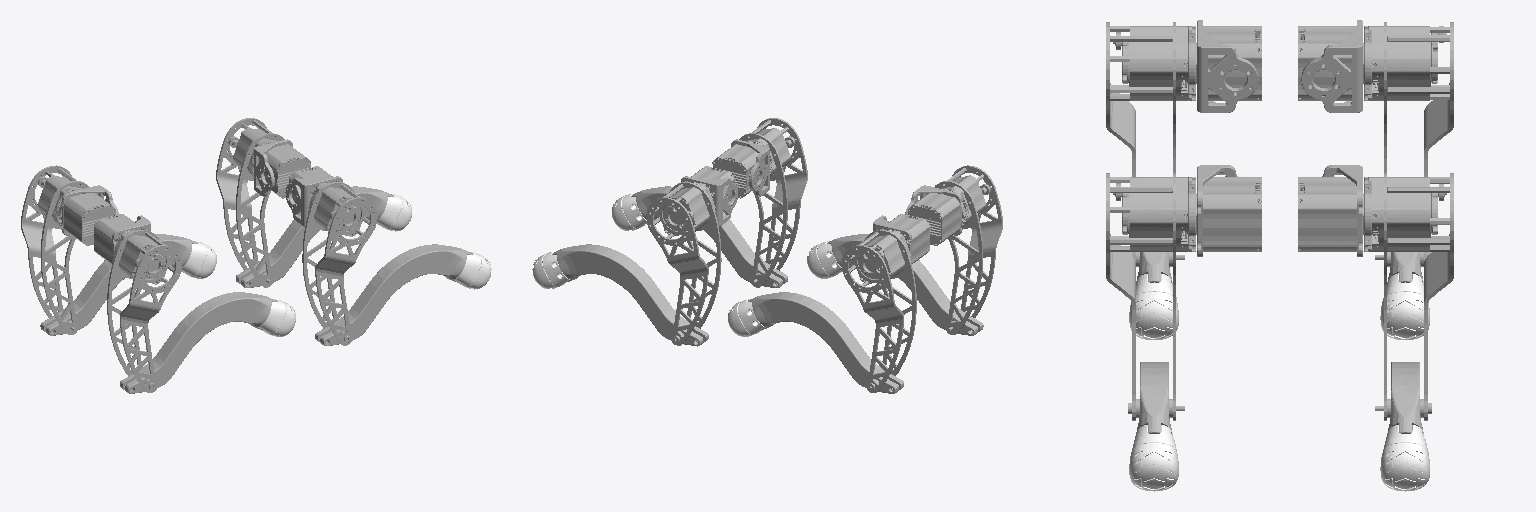
The robot description file, URDF, robot "HTDW_5036":
<?xml version="1.0" encoding="utf-8"?>
 <!-- This URDF was automatically created by SolidWorks to URDF Exporter! Originally created by Stephen Brawner (brawner@gmail.com) 
      Commit Version: 1.6.0-4-g7f85cfe  Build Version: 1.6.7995.38578
      For more information, please see http://wiki.ros.org/sw_urdf_exporter -->
 <robot name="HTDW_5036">
  <mujoco>
    <compiler meshdir="../meshes/" balanceinertia="true" discardvisual="false" />
  </mujoco>

   <link name="base_link">
     <inertial>
       <origin xyz="-0.003236 0.000885 -0.001813" rpy="0 0 0" />
       <mass value="2.659586" />
       <inertia ixx="0.003792" ixy="0.00013" ixz="0.000175" iyy="0.014468" iyz="-5e-05" izz="0.016548" />
     </inertial>
     <visual>
       <origin xyz="0 0 0" rpy="0 0 0" />
       <geometry>
         <mesh filename="../meshes/base_link.STL" />
       </geometry>
       <material name="">
         <color rgba="0.752941176470588 0.752941176470588 0.752941176470588 1" />
       </material>
     </visual>
     <collision>
       <origin xyz="0 0 0" rpy="0 0 0" />
       <geometry>
         <mesh filename="../meshes/base_link.STL" />
       </geometry>
     </collision>
   </link>
   <link name="FL_hip">
     <inertial>
       <origin xyz="-0.002051 0.009463 -0.000144" rpy="0 0 0" />
       <mass value="0.384243" />
       <inertia ixx="0.000101" ixy="2e-06" ixz="1e-06" iyy="0.000104" iyz="0.0" izz="0.00011" />
     </inertial>
     <visual>
       <origin xyz="0 0 0" rpy="0 0 0" />
       <geometry>
         <mesh filename="../meshes/FL_hip.STL" />
       </geometry>
       <material name="">
         <color rgba="0.752941176470588 0.752941176470588 0.752941176470588 1" />
       </material>
     </visual>
     <collision>
       <origin xyz="0 0 0" rpy="0 0 0" />
       <geometry>
         <mesh filename="../meshes/FL_hip.STL" />
       </geometry>
     </collision>
   </link>
   <joint name="FL_hip_joint" type="revolute">
     <origin xyz="0.14215 0.035 0" rpy="0 0 0" />
     <parent link="base_link" />
     <child link="FL_hip" />
     <axis xyz="1 0 0" />
     <limit lower="-0.53" upper="0.53" effort="21" velocity="9.5" />
   </joint>
   <link name="FL_thigh">
     <inertial>
       <origin xyz="-0.002275 0.002996 -0.013672" rpy="0 0 0" />
       <mass value="0.475" />
       <inertia ixx="0.000882" ixy="7e-06" ixz="-6.3e-05" iyy="0.000854" iyz="4e-06" izz="0.000201" />
     </inertial>
     <visual>
       <origin xyz="0 0 0" rpy="0 0 0" />
       <geometry>
         <mesh filename="../meshes/FL_thigh.STL" />
       </geometry>
       <material name="">
         <color rgba="0.752941176470588 0.752941176470588 0.752941176470588 1" />
       </material>
     </visual>
     <collision>
       <origin xyz="0 0 0" rpy="0 0 0" />
       <geometry>
         <mesh filename="../meshes/FL_thigh.STL" />
       </geometry>
     </collision>
   </link>
   <joint name="FL_thigh_joint" type="revolute">
     <origin xyz="0 0.0649 0" rpy="0 0 0" />
     <parent link="FL_hip" />
     <child link="FL_thigh" />
     <axis xyz="0 1 0" />
     <limit lower="-1.57" upper="3.49" effort="21" velocity="9.5" />
   </joint>
   <link name="FL_calf">
     <inertial>
       <origin xyz="0.019619 0.0 -0.090905" rpy="0 0 0" />
       <mass value="0.185104" />
       <inertia ixx="0.000731" ixy="0.0" ixz="8.1e-05" iyy="0.000773" iyz="0.0" izz="5.8e-05" />
     </inertial>
     <visual>
       <origin xyz="0 0 0" rpy="0 0 0" />
       <geometry>
         <mesh filename="../meshes/FL_calf.STL" />
       </geometry>
       <material name="">
         <color rgba="0.752941176470588 0.752941176470588 0.752941176470588 1" />
       </material>
     </visual>
     <collision>
       <origin xyz="0 0 0" rpy="0 0 0" />
       <geometry>
         <mesh filename="../meshes/FL_calf.STL" />
       </geometry>
     </collision>
   </link>
   <joint name="FL_calf_joint" type="revolute">
     <origin xyz="0 0 -0.17" rpy="0 0 0" />
     <parent link="FL_thigh" />
     <child link="FL_calf" />
     <axis xyz="0 1 0" />
     <limit lower="-2.43" upper="-1.298" effort="21" velocity="9.5" />
   </joint>
   <link name="FL_foot">
     <inertial>
       <origin xyz="0.000415 -0.000258 0.000642" rpy="0 0 0" />
       <mass value="0.051122" />
       <inertia ixx="1.1e-05" ixy="0.0" ixz="-1e-06" iyy="1.3e-05" iyz="0.0" izz="1.1e-05" />
     </inertial>
     <visual>
       <origin xyz="0 0 0" rpy="0 0 0" />
       <geometry>
         <mesh filename="../meshes/FL_foot.STL" />
       </geometry>
       <material name="">
         <color rgba="1 1 1 1" />
       </material>
     </visual>
     <collision>
       <origin xyz="0 0 0" rpy="0 0 0" />
       <geometry>
         <sphere radius="0.022" />
       </geometry>
     </collision>
   </link>
   <joint name="FL_foot" type="fixed">
     <origin xyz="-0.0144485951312854 0 -0.196399042450557" rpy="0 0 0" />
     <parent link="FL_calf" />
     <child link="FL_foot" />
     <axis xyz="0 0 0" />
   </joint>
   <link name="FR_hip">
     <inertial>
       <origin xyz="-0.002051 -0.009463 0.000144" rpy="0 0 0" />
       <mass value="0.384243" />
       <inertia ixx="0.000101" ixy="-2e-06" ixz="-1e-06" iyy="0.000104" iyz="0.0" izz="0.00011" />
     </inertial>
     <visual>
       <origin xyz="0 0 0" rpy="0 0 0" />
       <geometry>
         <mesh filename="../meshes/FR_hip.STL" />
       </geometry>
       <material name="">
         <color rgba="0.752941176470588 0.752941176470588 0.752941176470588 1" />
       </material>
     </visual>
     <collision>
       <origin xyz="0 0 0" rpy="0 0 0" />
       <geometry>
         <mesh filename="../meshes/FR_hip.STL" />
       </geometry>
     </collision>
   </link>
   <joint name="FR_hip_joint" type="revolute">
     <origin xyz="0.14215 -0.035 0" rpy="0 0 0" />
     <parent link="base_link" />
     <child link="FR_hip" />
     <axis xyz="1 0 0" />
     <limit lower="-0.53" upper="0.53" effort="21" velocity="9.5" />
   </joint>
   <link name="FR_thigh">
     <inertial>
       <origin xyz="-0.002505 -0.002996 -0.013547" rpy="0 0 0" />
       <mass value="0.475" />
       <inertia ixx="0.000885" ixy="-6e-06" ixz="-6e-05" iyy="0.000855" iyz="-3e-06" izz="0.0002" />
     </inertial>
     <visual>
       <origin xyz="0 0 0" rpy="0 0 0" />
       <geometry>
         <mesh filename="../meshes/FR_thigh.STL" />
       </geometry>
       <material name="">
         <color rgba="0.752941176470588 0.752941176470588 0.752941176470588 1" />
       </material>
     </visual>
     <collision>
       <origin xyz="0 0 0" rpy="0 0 0" />
       <geometry>
         <mesh filename="../meshes/FR_thigh.STL" />
       </geometry>
     </collision>
   </link>
   <joint name="FR_thigh_joint" type="revolute">
     <origin xyz="0 -0.0649 0" rpy="0 0 0" />
     <parent link="FR_hip" />
     <child link="FR_thigh" />
     <axis xyz="0 1 0" />
     <limit lower="-1.57" upper="3.49" effort="21" velocity="9.5" />
   </joint>
   <link name="FR_calf">
     <inertial>
       <origin xyz="0.019619 0.0 -0.090905" rpy="0 0 0" />
       <mass value="0.185104" />
       <inertia ixx="0.000731" ixy="0.0" ixz="8.1e-05" iyy="0.000773" iyz="0.0" izz="5.8e-05" />
     </inertial>
     <visual>
       <origin xyz="0 0 0" rpy="0 0 0" />
       <geometry>
         <mesh filename="../meshes/FR_calf.STL" />
       </geometry>
       <material name="">
         <color rgba="0.752941176470588 0.752941176470588 0.752941176470588 1" />
       </material>
     </visual>
     <collision>
       <origin xyz="0 0 0" rpy="0 0 0" />
       <geometry>
         <mesh filename="../meshes/FR_calf.STL" />
       </geometry>
     </collision>
   </link>
   <joint name="FR_calf_joint" type="revolute">
     <origin xyz="0 0 -0.17" rpy="0 0 0" />
     <parent link="FR_thigh" />
     <child link="FR_calf" />
     <axis xyz="0 1 0" />
     <limit lower="-2.43" upper="-1.298" effort="21" velocity="9.5" />
   </joint>
   <link name="FR_foot">
     <inertial>
       <origin xyz="0.000415 -0.000258 0.000643" rpy="0 0 0" />
       <mass value="0.051122" />
       <inertia ixx="1.1e-05" ixy="0.0" ixz="-1e-06" iyy="1.3e-05" iyz="0.0" izz="1.1e-05" />
     </inertial>
     <visual>
       <origin xyz="0 0 0" rpy="0 0 0" />
       <geometry>
         <mesh filename="../meshes/FR_foot.STL" />
       </geometry>
       <material name="">
         <color rgba="1 1 1 1" />
       </material>
     </visual>
     <collision>
       <origin xyz="0 0 0" rpy="0 0 0" />
       <geometry>
         <sphere radius="0.022" />
       </geometry>
     </collision>
   </link>
   <joint name="FR_foot" type="fixed">
     <origin xyz="-0.014449 0 -0.1964" rpy="0 0 0" />
     <parent link="FR_calf" />
     <child link="FR_foot" />
     <axis xyz="0 0 0" />
   </joint>
   <link name="RL_hip">
     <inertial>
       <origin xyz="0.002051 0.009463 0.000144" rpy="0 0 0" />
       <mass value="0.384243" />
       <inertia ixx="0.000101" ixy="-2e-06" ixz="1e-06" iyy="0.000104" iyz="0.0" izz="0.00011" />
     </inertial>
     <visual>
       <origin xyz="0 0 0" rpy="0 0 0" />
       <geometry>
         <mesh filename="../meshes/RL_hip.STL" />
       </geometry>
       <material name="">
         <color rgba="0.752941176470588 0.752941176470588 0.752941176470588 1" />
       </material>
     </visual>
     <collision>
       <origin xyz="0 0 0" rpy="0 0 0" />
       <geometry>
         <mesh filename="../meshes/RL_hip.STL" />
       </geometry>
     </collision>
   </link>
   <joint name="RL_hip_joint" type="revolute">
     <origin xyz="-0.14215 0.035 0" rpy="0 0 0" />
     <parent link="base_link" />
     <child link="RL_hip" />
     <axis xyz="1 0 0" />
     <limit lower="-0.53" upper="0.53" effort="21" velocity="9.5" />
   </joint>
   <link name="RL_thigh">
     <inertial>
       <origin xyz="-0.002152 0.002996 -0.013502" rpy="0 0 0" />
       <mass value="0.475" />
       <inertia ixx="0.000887" ixy="5e-06" ixz="-6.3e-05" iyy="0.000857" iyz="2e-06" izz="0.000199" />
     </inertial>
     <visual>
       <origin xyz="0 0 0" rpy="0 0 0" />
       <geometry>
         <mesh filename="../meshes/RL_thigh.STL" />
       </geometry>
       <material name="">
         <color rgba="0.752941176470588 0.752941176470588 0.752941176470588 1" />
       </material>
     </visual>
     <collision>
       <origin xyz="0 0 0" rpy="0 0 0" />
       <geometry>
         <mesh filename="../meshes/RL_thigh.STL" />
       </geometry>
     </collision>
   </link>
   <joint name="RL_thigh_joint" type="revolute">
     <origin xyz="0 0.0649 0" rpy="0 0 0" />
     <parent link="RL_hip" />
     <child link="RL_thigh" />
     <axis xyz="0 1 0" />
     <limit lower="-1.57" upper="3.49" effort="21" velocity="9.5" />
   </joint>
   <link name="RL_calf">
     <inertial>
       <origin xyz="0.019619 0.0 -0.090905" rpy="0 0 0" />
       <mass value="0.185104" />
       <inertia ixx="0.000731" ixy="0.0" ixz="8.1e-05" iyy="0.000773" iyz="0.0" izz="5.8e-05" />
     </inertial>
     <visual>
       <origin xyz="0 0 0" rpy="0 0 0" />
       <geometry>
         <mesh filename="../meshes/RL_calf.STL" />
       </geometry>
       <material name="">
         <color rgba="0.752941176470588 0.752941176470588 0.752941176470588 1" />
       </material>
     </visual>
     <collision>
       <origin xyz="0 0 0" rpy="0 0 0" />
       <geometry>
         <mesh filename="../meshes/RL_calf.STL" />
       </geometry>
     </collision>
   </link>
   <joint name="RL_calf_joint" type="revolute">
     <origin xyz="0 0 -0.17" rpy="0 0 0" />
     <parent link="RL_thigh" />
     <child link="RL_calf" />
     <axis xyz="0 1 0" />
     <limit lower="-2.43" upper="-1.298" effort="21" velocity="9.5" />
   </joint>
   <link name="RL_foot">
     <inertial>
       <origin xyz="0.000415 -0.000258 0.000642" rpy="0 0 0" />
       <mass value="0.051122" />
       <inertia ixx="1.1e-05" ixy="0.0" ixz="-1e-06" iyy="1.3e-05" iyz="0.0" izz="1.1e-05" />
     </inertial>
     <visual>
       <origin xyz="0 0 0" rpy="0 0 0" />
       <geometry>
         <mesh filename="../meshes/RL_foot.STL" />
       </geometry>
       <material name="">
         <color rgba="1 1 1 1" />
       </material>
     </visual>
     <collision>
       <origin xyz="0 0 0" rpy="0 0 0" />
       <geometry>
         <sphere radius="0.022" />
       </geometry>
     </collision>
   </link>
   <joint name="RL_foot" type="fixed">
     <origin xyz="-0.0144485645043519 0 -0.196399042137075" rpy="0 0 0" />
     <parent link="RL_calf" />
     <child link="RL_foot" />
     <axis xyz="0 0 0" />
   </joint>
   <link name="RR_hip">
     <inertial>
       <origin xyz="0.002051 -0.009463 -0.000144" rpy="0 0 0" />
       <mass value="0.384243" />
       <inertia ixx="0.000101" ixy="2e-06" ixz="-1e-06" iyy="0.000104" iyz="0.0" izz="0.00011" />
     </inertial>
     <visual>
       <origin xyz="0 0 0" rpy="0 0 0" />
       <geometry>
         <mesh filename="../meshes/RR_hip.STL" />
       </geometry>
       <material name="">
         <color rgba="0.752941176470588 0.752941176470588 0.752941176470588 1" />
       </material>
     </visual>
     <collision>
       <origin xyz="0 0 0" rpy="0 0 0" />
       <geometry>
         <mesh filename="../meshes/RR_hip.STL" />
       </geometry>
     </collision>
   </link>
   <joint name="RR_hip_joint" type="revolute">
     <origin xyz="-0.14215 -0.035 0" rpy="0 0 0" />
     <parent link="base_link" />
     <child link="RR_hip" />
     <axis xyz="1 0 0" />
     <limit lower="-0.53" upper="0.53" effort="21" velocity="9.5" />
   </joint>
   <link name="RR_thigh">
     <inertial>
       <origin xyz="-0.002505 -0.002996 -0.013547" rpy="0 0 0" />
       <mass value="0.475" />
       <inertia ixx="0.000885" ixy="-6e-06" ixz="-6e-05" iyy="0.000855" iyz="-3e-06" izz="0.0002" />
     </inertial>
     <visual>
       <origin xyz="0 0 0" rpy="0 0 0" />
       <geometry>
         <mesh filename="../meshes/RR_thigh.STL" />
       </geometry>
       <material name="">
         <color rgba="0.752941176470588 0.752941176470588 0.752941176470588 1" />
       </material>
     </visual>
     <collision>
       <origin xyz="0 0 0" rpy="0 0 0" />
       <geometry>
         <mesh filename="../meshes/RR_thigh.STL" />
       </geometry>
     </collision>
   </link>
   <joint name="RR_thigh_joint" type="revolute">
     <origin xyz="0 -0.0649 0" rpy="0 0 0" />
     <parent link="RR_hip" />
     <child link="RR_thigh" />
     <axis xyz="0 1 0" />
     <limit lower="-1.57" upper="3.49" effort="21" velocity="9.5" />
   </joint>
   <link name="RR_calf">
     <inertial>
       <origin xyz="0.019619 0.0 -0.090905" rpy="0 0 0" />
       <mass value="0.185104" />
       <inertia ixx="0.000731" ixy="0.0" ixz="8.1e-05" iyy="0.000773" iyz="0.0" izz="5.8e-05" />
     </inertial>
     <visual>
       <origin xyz="0 0 0" rpy="0 0 0" />
       <geometry>
         <mesh filename="../meshes/RR_calf.STL" />
       </geometry>
       <material name="">
         <color rgba="0.752941176470588 0.752941176470588 0.752941176470588 1" />
       </material>
     </visual>
     <collision>
       <origin xyz="0 0 0" rpy="0 0 0" />
       <geometry>
         <mesh filename="../meshes/RR_calf.STL" />
       </geometry>
     </collision>
   </link>
   <joint name="RR_calf_joint" type="revolute">
     <origin xyz="0 0 -0.17" rpy="0 0 0" />
     <parent link="RR_thigh" />
     <child link="RR_calf" />
     <axis xyz="0 1 0" />
     <limit lower="-2.43" upper="-1.298" effort="21" velocity="9.5" />
   </joint>
   <link name="RR_foot">
     <inertial>
       <origin xyz="0.000415 -0.000258 0.000643" rpy="0 0 0" />
       <mass value="0.051122" />
       <inertia ixx="1.1e-05" ixy="0.0" ixz="-1e-06" iyy="1.3e-05" iyz="0.0" izz="1.1e-05" />
     </inertial>
     <visual>
       <origin xyz="0 0 0" rpy="0 0 0" />
       <geometry>
         <mesh filename="../meshes/RR_foot.STL" />
       </geometry>
       <material name="">
         <color rgba="1 1 1 1" />
       </material>
     </visual>
     <collision>
       <origin xyz="0 0 0" rpy="0 0 0" />
       <geometry>
         <sphere radius="0.022" />
       </geometry>
     </collision>
   </link>
   <joint name="RR_foot" type="fixed">
     <origin xyz="-0.0144485645043577 0 -0.196399042137075" rpy="0 0 0" />
     <parent link="RR_calf" />
     <child link="RR_foot" />
     <axis xyz="0 0 0" />
   </joint>
 </robot>

--- What the picture shows (computed from the rendered views, not written in the file) ---
The picture shows the robot from 3 angles, left to right: view 1: azimuth 30°, elevation 25°; view 2: azimuth 150°, elevation 25°; view 3: azimuth 270°, elevation 25°; orthographic projection.
Model HTDW_5036 with 17 links and 16 joints (12 revolute, 4 fixed), rooted at base_link, posed all joints at 0 but 4 set to mid-range because 0 is outside their limits (FL_calf_joint = -1.86, FR_calf_joint = -1.86, RL_calf_joint = -1.86, RR_calf_joint = -1.86).
Visible links, largest first — view 1: FR_thigh, RR_thigh, RL_thigh, FL_thigh, RR_calf, FR_calf, RL_calf, FL_calf, RL_hip, FL_hip, FR_hip, RR_hip (+4 smaller); view 2: FL_thigh, RL_thigh, RR_thigh, FR_thigh, RL_calf, FL_calf, RR_calf, FR_calf, RR_hip, FR_hip, FL_hip, RL_hip (+4 smaller); view 3: FL_thigh, FR_thigh, RL_thigh, RR_thigh, RL_hip, RR_hip, FL_hip, FR_hip, FR_foot, FL_foot, RR_foot, RL_foot (+4 smaller).
Boxes of the visible links, x1=… form: FR_thigh: x1=302, y1=182, x2=377, y2=345; RR_thigh: x1=107, y1=229, x2=181, y2=392; RL_thigh: x1=21, y1=165, x2=88, y2=334; FL_thigh: x1=216, y1=118, x2=284, y2=287; RR_calf: x1=120, y1=292, x2=275, y2=393; FR_calf: x1=315, y1=244, x2=471, y2=345; RL_calf: x1=40, y1=234, x2=196, y2=335; FL_calf: x1=236, y1=186, x2=392, y2=287; RL_hip: x1=62, y1=185, x2=118, y2=245; FL_hip: x1=254, y1=139, x2=310, y2=198; FR_hip: x1=285, y1=166, x2=342, y2=226; RR_hip: x1=94, y1=214, x2=150, y2=263; FL_thigh: x1=646, y1=182, x2=721, y2=345; RL_thigh: x1=842, y1=229, x2=916, y2=392; RR_thigh: x1=935, y1=165, x2=1002, y2=334; FR_thigh: x1=739, y1=118, x2=807, y2=287; RL_calf: x1=748, y1=292, x2=903, y2=393; FL_calf: x1=552, y1=244, x2=708, y2=346; RR_calf: x1=827, y1=234, x2=983, y2=335; FR_calf: x1=631, y1=186, x2=787, y2=287; RR_hip: x1=905, y1=185, x2=961, y2=245; FR_hip: x1=712, y1=139, x2=769, y2=198; FL_hip: x1=681, y1=166, x2=737, y2=226; RL_hip: x1=873, y1=214, x2=929, y2=263; FL_thigh: x1=1364, y1=173, x2=1453, y2=420; FR_thigh: x1=1106, y1=173, x2=1195, y2=420; RL_thigh: x1=1364, y1=22, x2=1453, y2=260; RR_thigh: x1=1106, y1=22, x2=1195, y2=260; RL_hip: x1=1298, y1=20, x2=1363, y2=112; RR_hip: x1=1196, y1=20, x2=1261, y2=112; FL_hip: x1=1298, y1=165, x2=1363, y2=256; FR_hip: x1=1196, y1=165, x2=1261, y2=256; FR_foot: x1=1129, y1=425, x2=1178, y2=491; FL_foot: x1=1380, y1=425, x2=1429, y2=491; RR_foot: x1=1129, y1=274, x2=1178, y2=339; RL_foot: x1=1380, y1=273, x2=1429, y2=339.
Bounding box of the posed robot: 0.5449 × 0.2768 × 0.213 m (x, y, z).
16 mesh visuals loaded from 17 distinct referenced files (16 binary STL); not drawn: 1 (reference not matched to a file when rendering).
